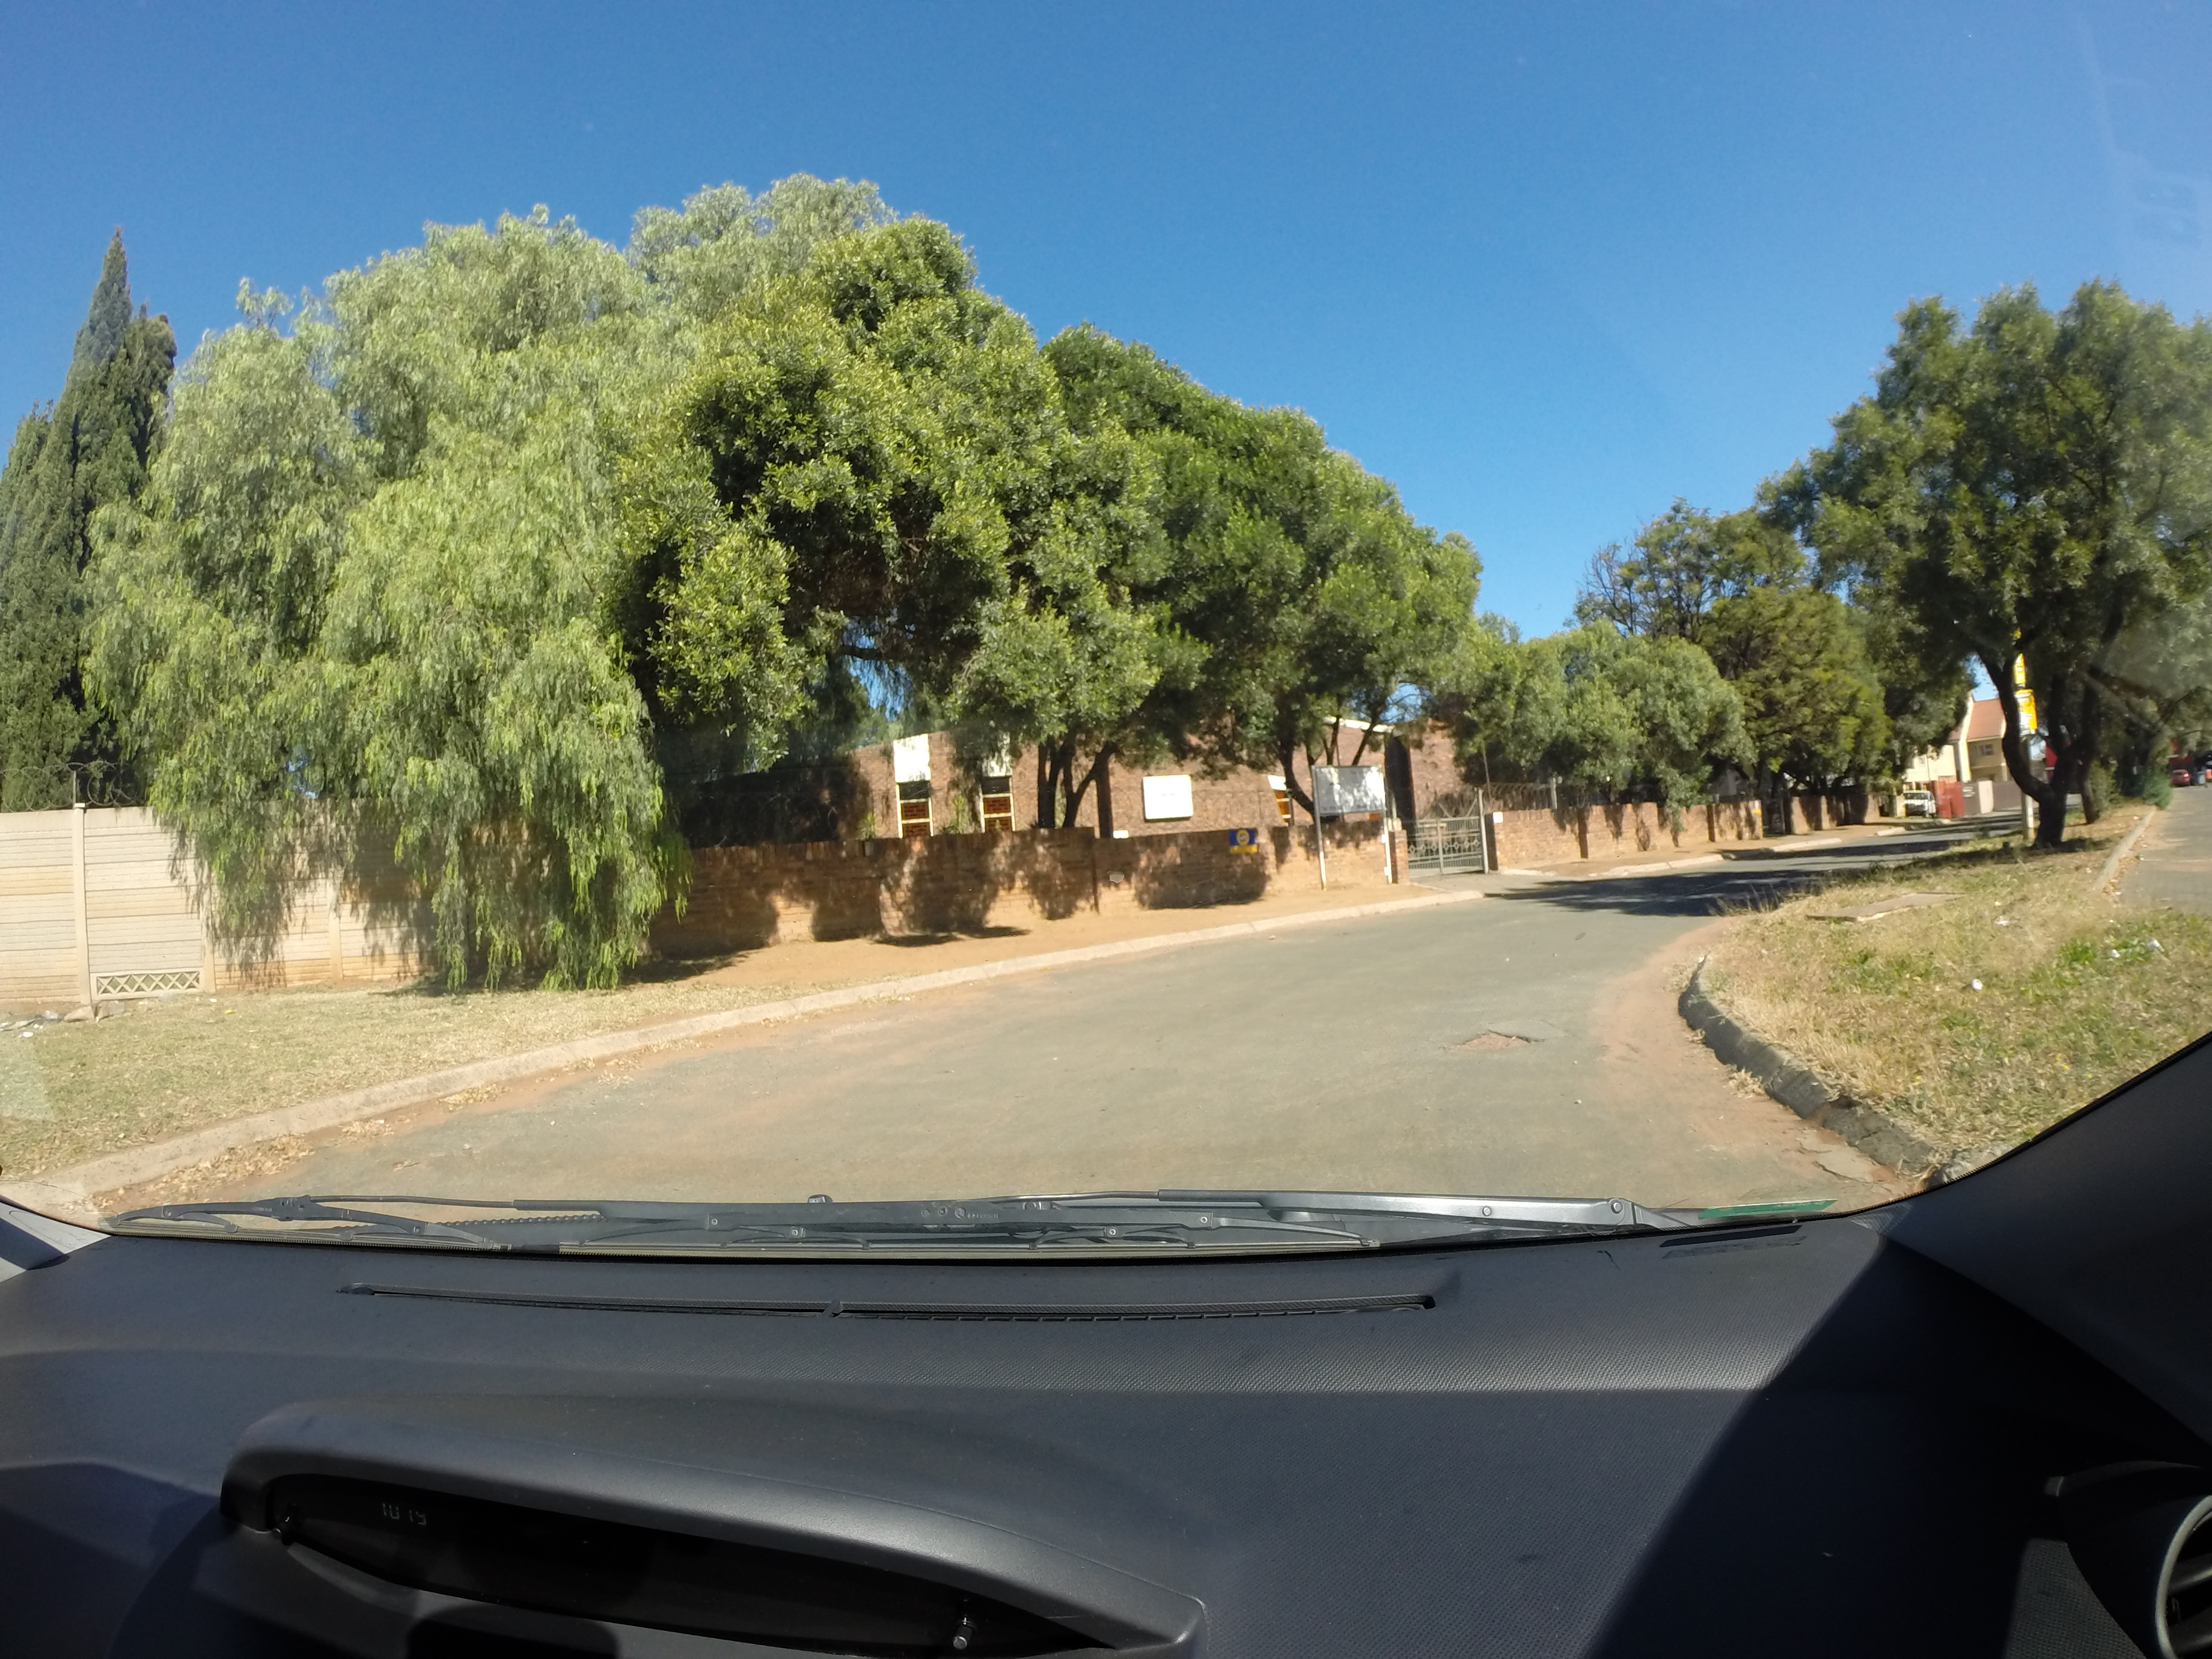pothole: (1435, 995, 1548, 1082)
